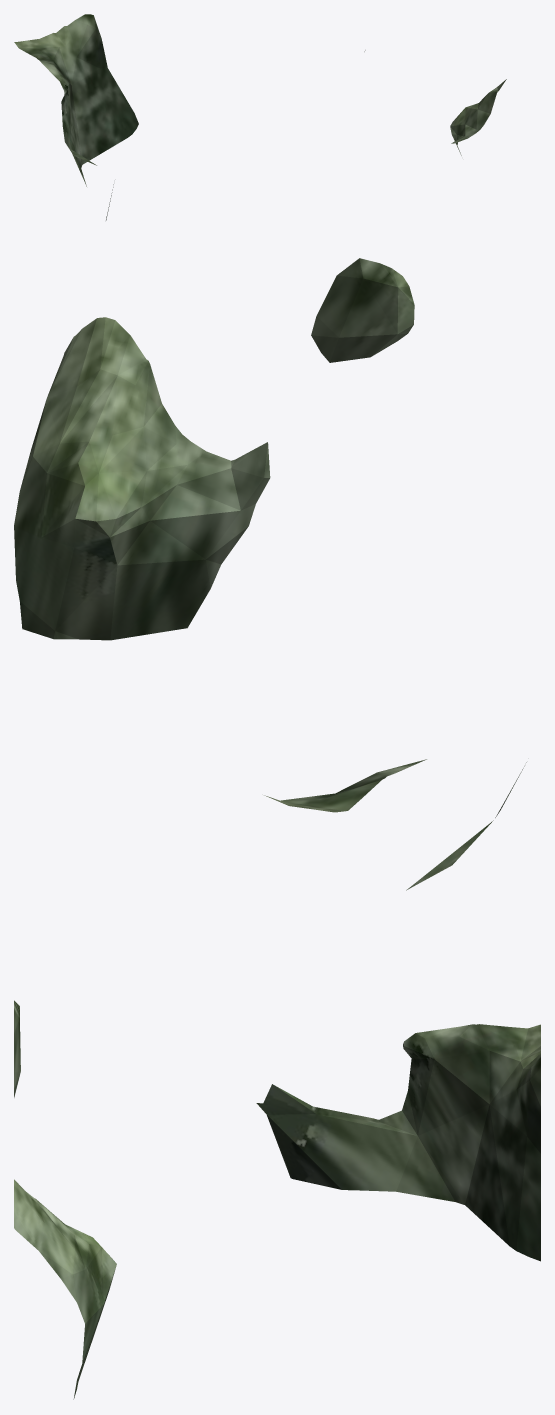
The picture shows the model from 3 angles, top to bottom: view 1: azimuth 30°, elevation 25°; view 2: azimuth 150°, elevation 25°; view 3: azimuth 270°, elevation 25°; orthographic projection. The views are drawn at different scales.
Bounding box in the file's own units: 2.95 × 1.79 × 2.95.
Materials: 1 (1 with a texture image).
